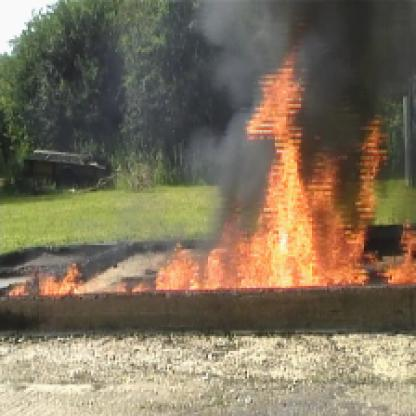Fire: (130, 54, 414, 293), (2, 262, 91, 304)
Smoke: (236, 2, 414, 59)
